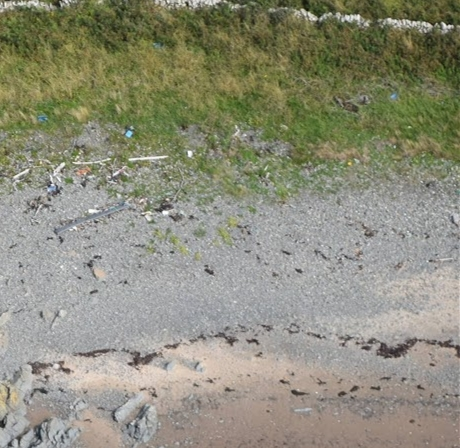scattered_barrel: (6, 106, 175, 186)
straight_bar: (52, 200, 130, 244)
white_in_green: (168, 133, 215, 170)
